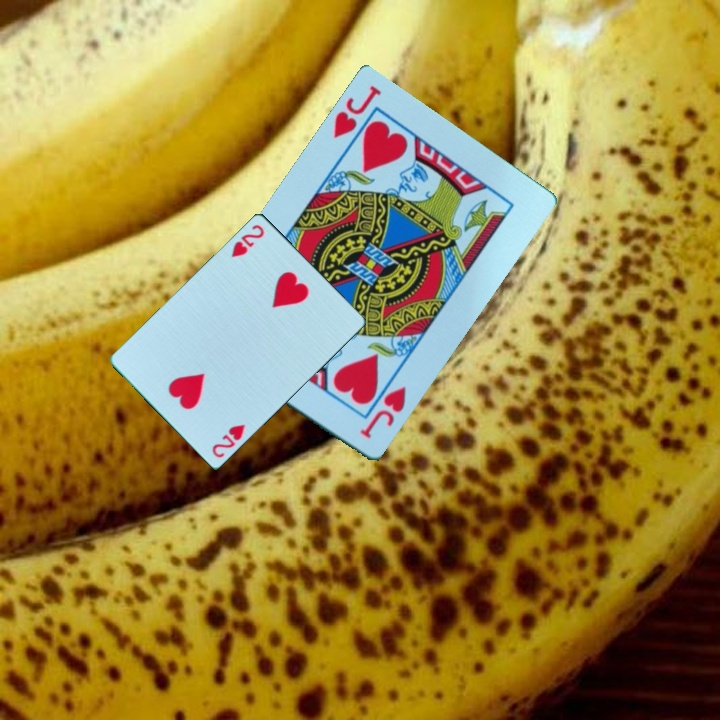2h: (227, 221, 267, 264), (208, 420, 248, 460)
Jh: (330, 82, 385, 142), (356, 384, 410, 442)
